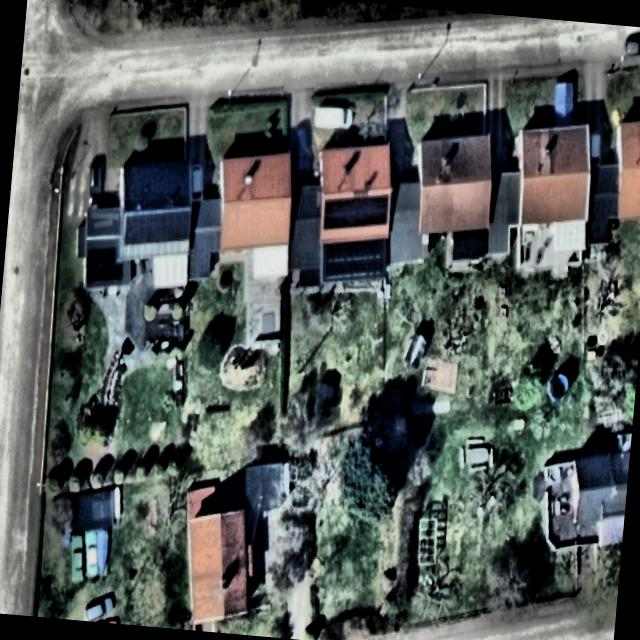roof_pv: (320, 189, 390, 237), (122, 204, 195, 250)
